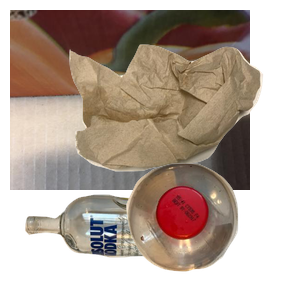cardboard: (10, 10, 250, 190)
glass: (22, 192, 234, 300)
plastic: (124, 161, 300, 300)
trash: (67, 42, 300, 206)
